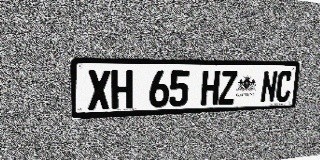5: (169, 70, 190, 107)
6: (149, 70, 170, 108)
C: (275, 71, 293, 102)
H: (111, 70, 133, 109), (200, 70, 220, 105)
N: (260, 70, 278, 103)
X: (87, 70, 110, 110)
Z: (218, 70, 238, 105)
